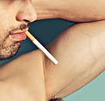smoke: (25, 29, 59, 64)
